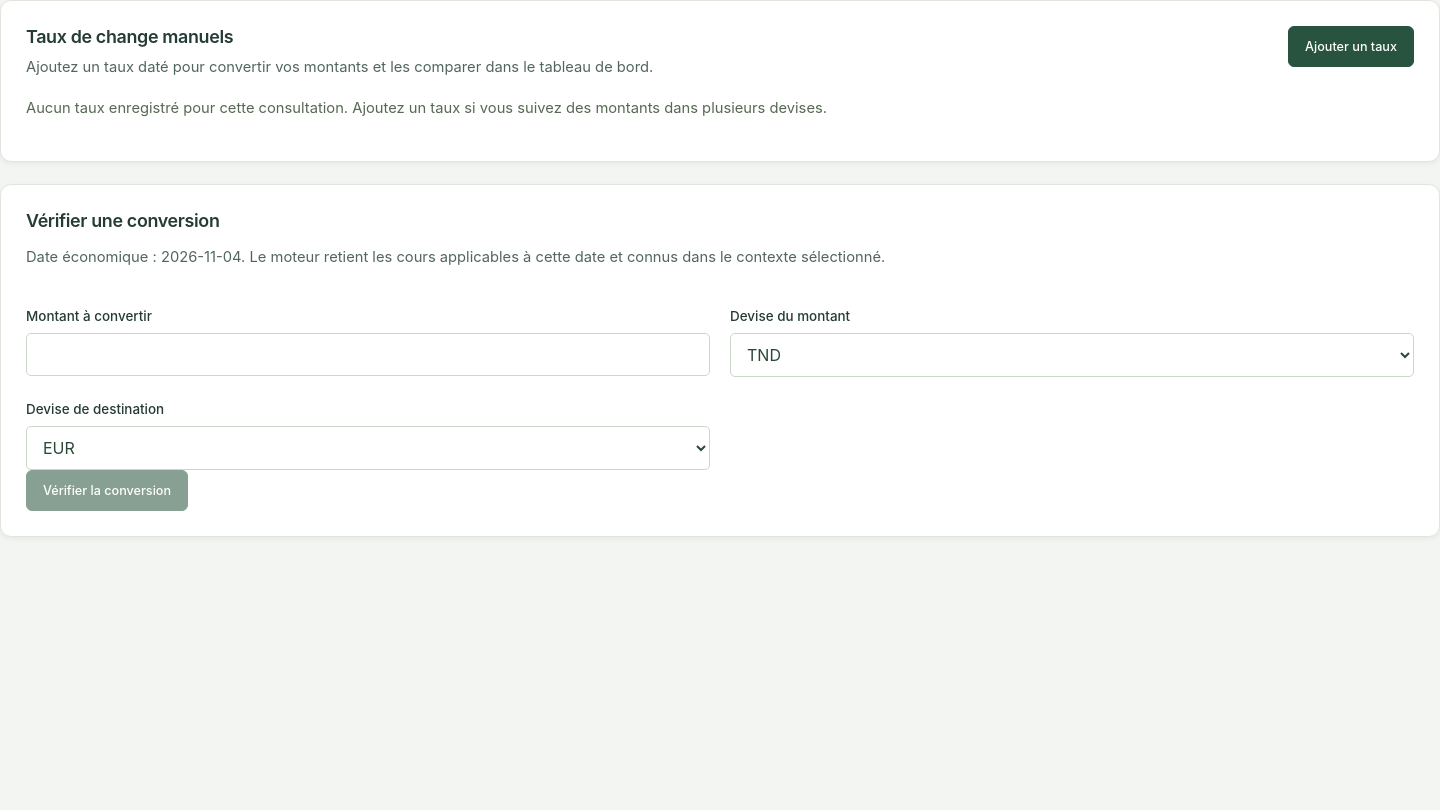
Taux manuels et conversions locales › REG-06 masque le résultat précédent après modification de Montant à convertir
This screenshot has width=1440, height=810.
Type "10" into the field labelled "Montant à convertir" at (368, 355), box [26, 334, 710, 376]
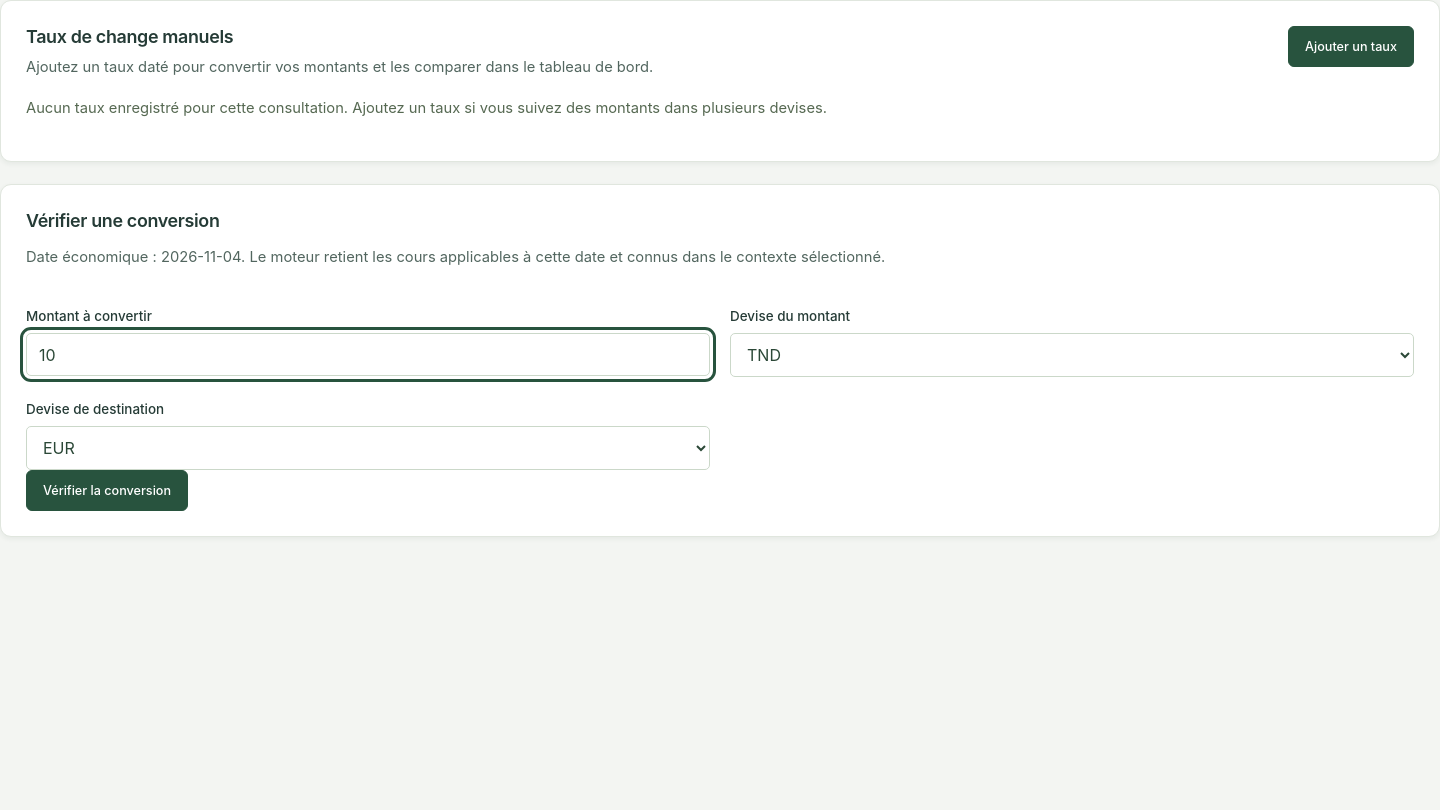
Click the button "Vérifier la conversion" at (107, 491), box [26, 470, 188, 512]
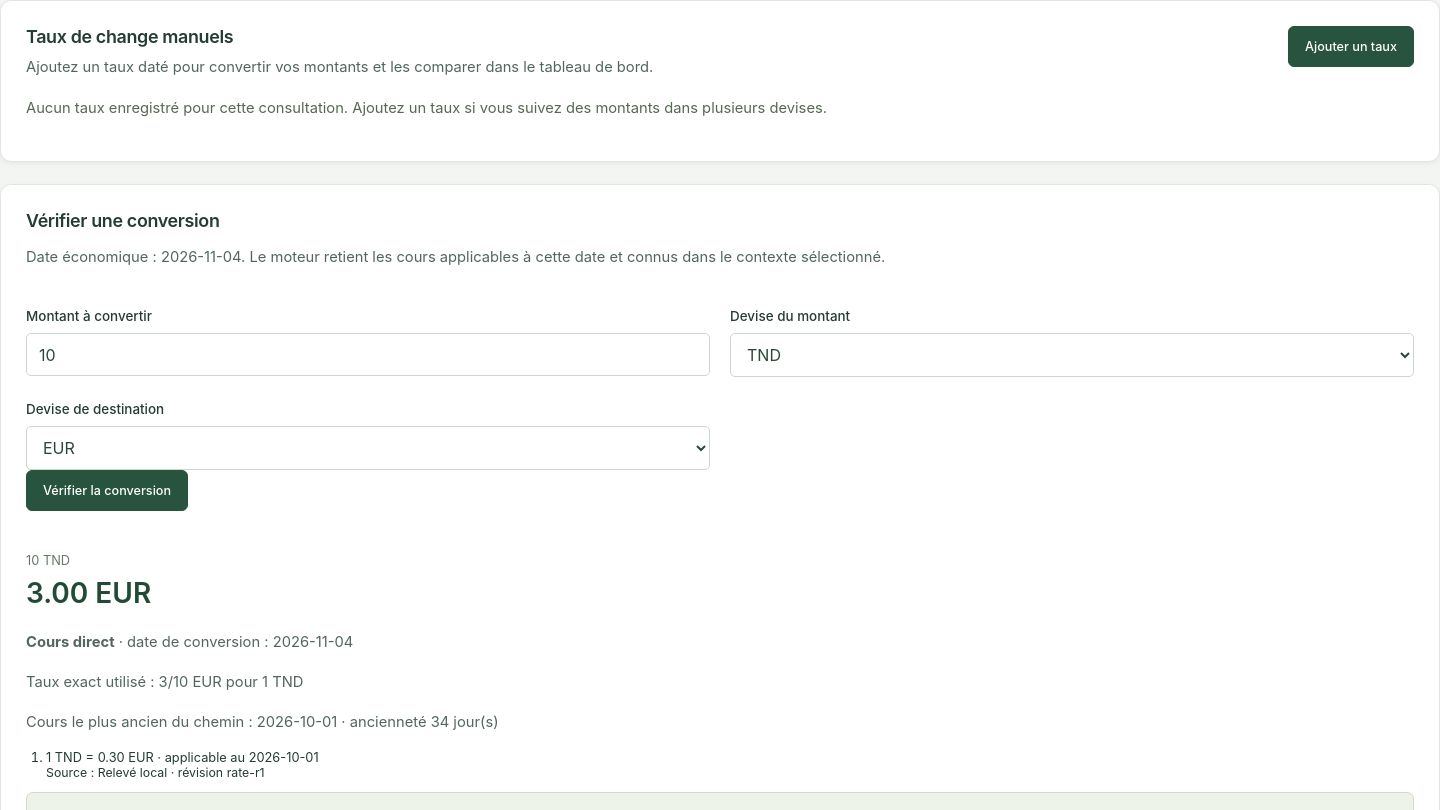
Now the text "3.00 EUR" is shown, box [26, 576, 151, 610]
Type "0" into the field labelled "Montant à convertir" at (368, 355), box [26, 334, 710, 376]
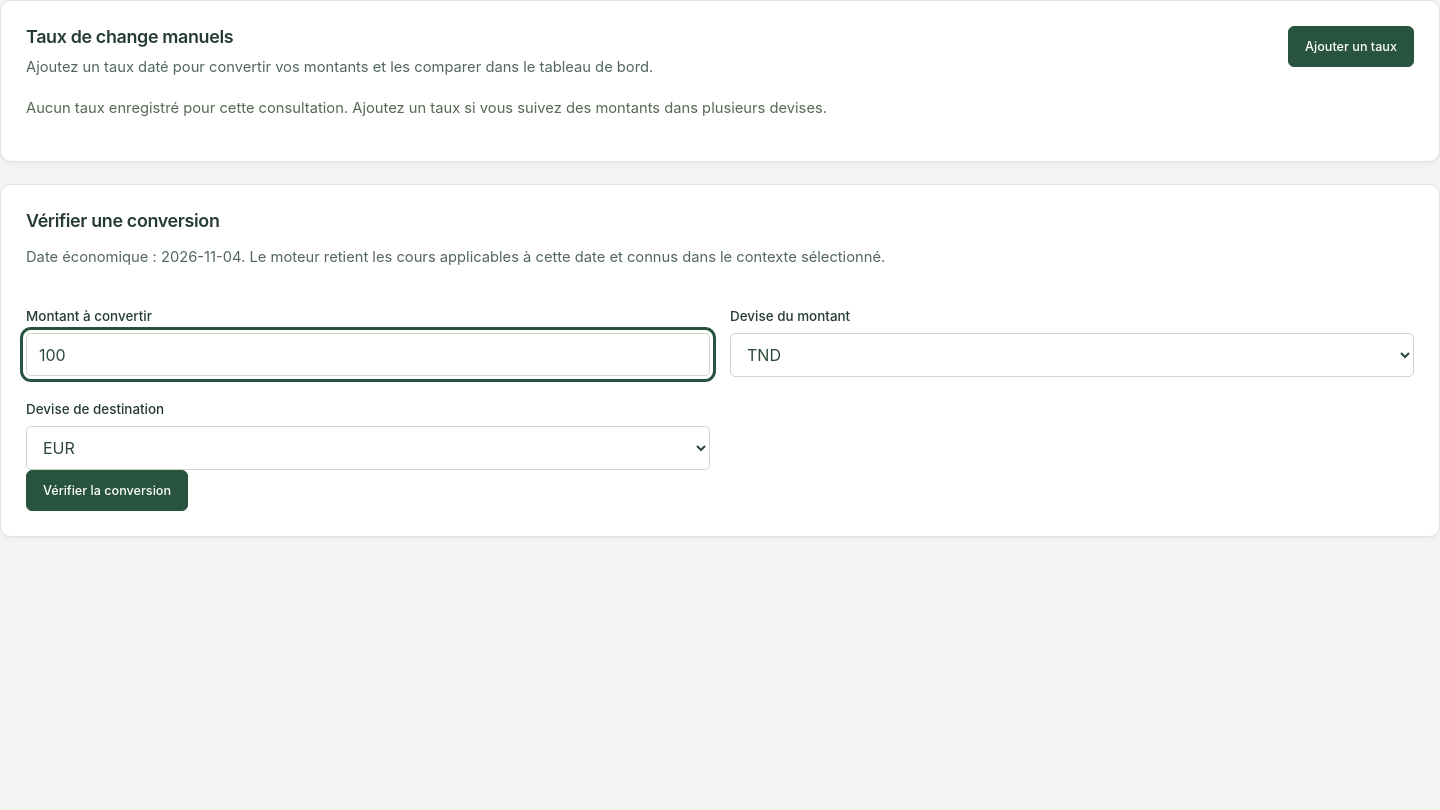
Now the text "3.00 EUR" is gone
